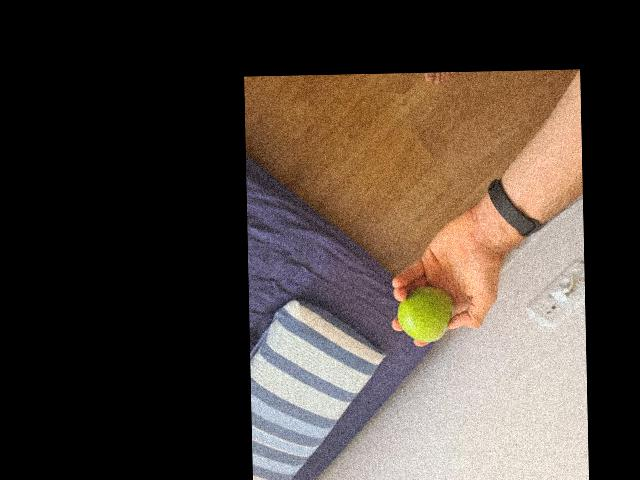apple: (396, 280, 451, 344)
